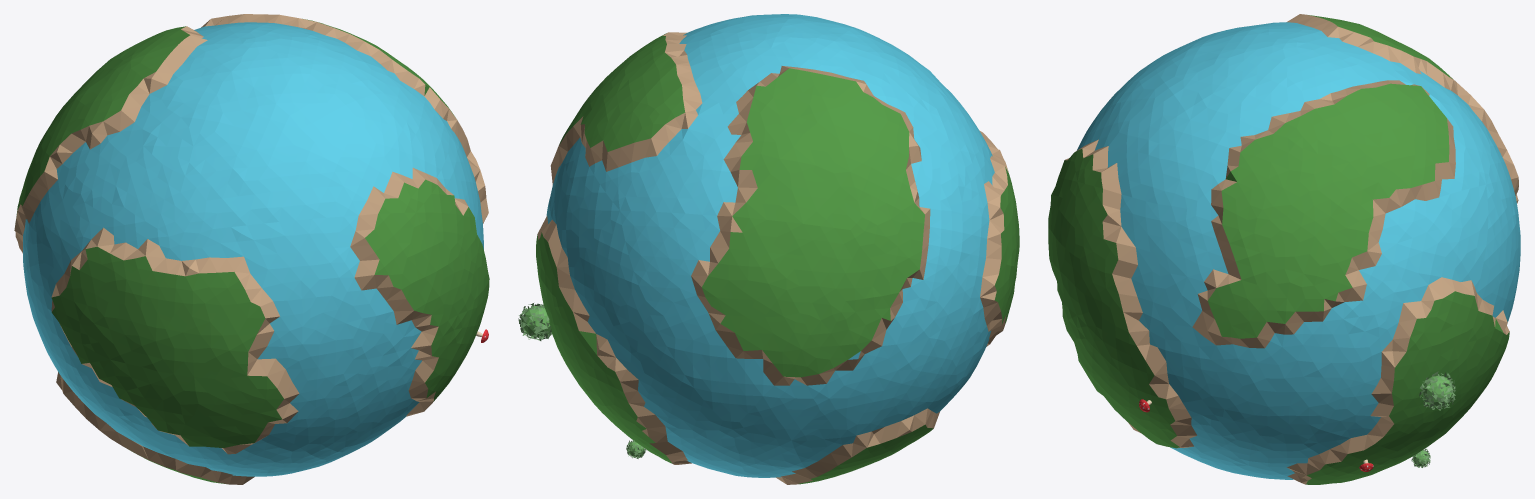
Rendered from World(exp).fbx.
3 views of the same model, side by side, from view 1: azimuth 30°, elevation 25°; view 2: azimuth 150°, elevation 25°; view 3: azimuth 270°, elevation 25° (orthographic).
Parts seen in each view (by area): view 1: Icosphere; view 2: Icosphere; view 3: Icosphere.
Part boxes in pixels (x1,y1,x2,y2): Icosphere: (14, 14, 489, 484); Icosphere: (518, 14, 1019, 484); Icosphere: (1048, 14, 1520, 484).
Bounding box in the file's own units: 2282 × 2198 × 2230.
